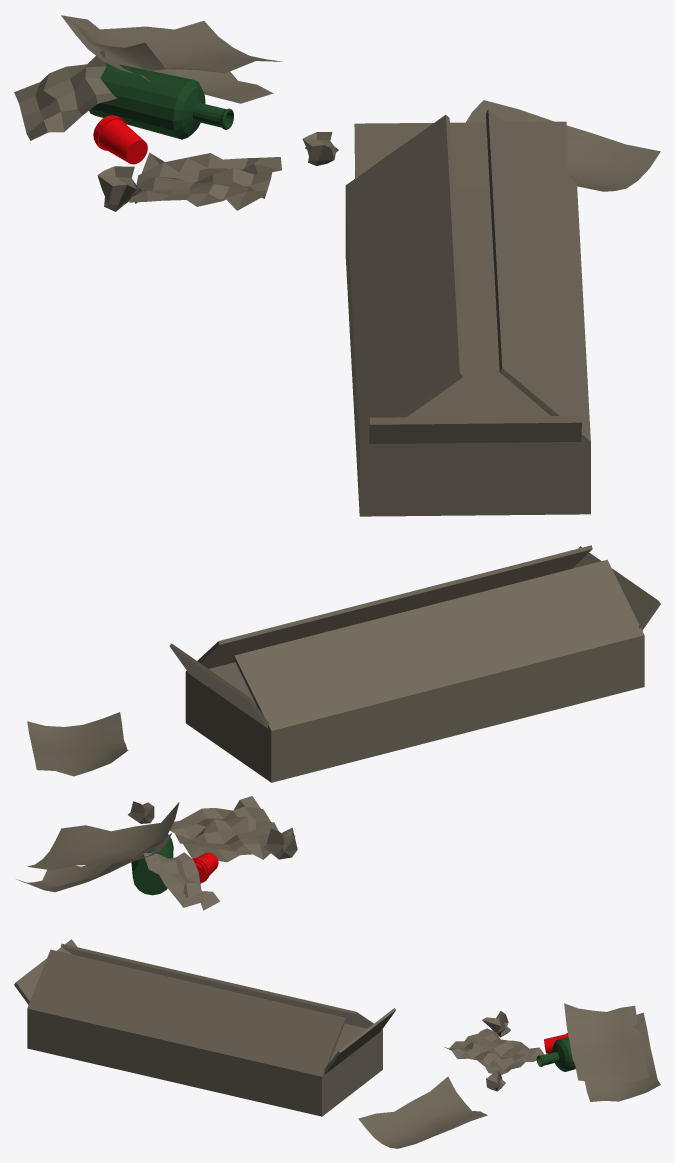
File: garbage.fbx
The picture shows the model from 3 angles, top to bottom: view 1: azimuth 30°, elevation 25°; view 2: azimuth 150°, elevation 25°; view 3: azimuth 270°, elevation 25°; orthographic projection. The views are drawn at different scales.
Visible parts, largest first — view 1: Cube, Cylinder, Plane, Plane.002, Plane.001, Plane.004, Plane.003, Cylinder.002, Cube.002, Cube.001; view 2: Cube, Plane, Plane.001, Plane.002, Plane.004, Plane.003, Cylinder, Cube.002; view 3: Cube, Plane.002, Plane.001, Plane, Plane.003, Cylinder, Cube.002.
Boxes of the visible parts, x1,y1,x2,y2 form: Cube: [345, 109, 590, 516]; Cylinder: [89, 63, 233, 139]; Plane: [129, 152, 281, 210]; Plane.002: [62, 15, 282, 73]; Plane.001: [466, 100, 660, 191]; Plane.004: [14, 50, 116, 140]; Plane.003: [61, 15, 273, 103]; Cylinder.002: [93, 115, 147, 164]; Cube.002: [97, 166, 141, 211]; Cube.001: [302, 132, 338, 165]; Cube: [169, 545, 660, 782]; Plane: [170, 796, 278, 862]; Plane.001: [27, 712, 128, 776]; Plane.002: [27, 802, 179, 870]; Plane.004: [143, 852, 219, 910]; Plane.003: [16, 833, 172, 892]; Cylinder: [131, 834, 173, 895]; Cube.002: [264, 827, 297, 859]; Cube: [14, 939, 395, 1116]; Plane.002: [564, 1003, 648, 1083]; Plane.001: [358, 1076, 487, 1148]; Plane: [444, 1028, 544, 1074]; Plane.003: [584, 1012, 660, 1101]; Cylinder: [536, 1037, 575, 1071]; Cube.002: [482, 1011, 510, 1037].
Size of the model in its own units: 222 by 55.28 by 385.
